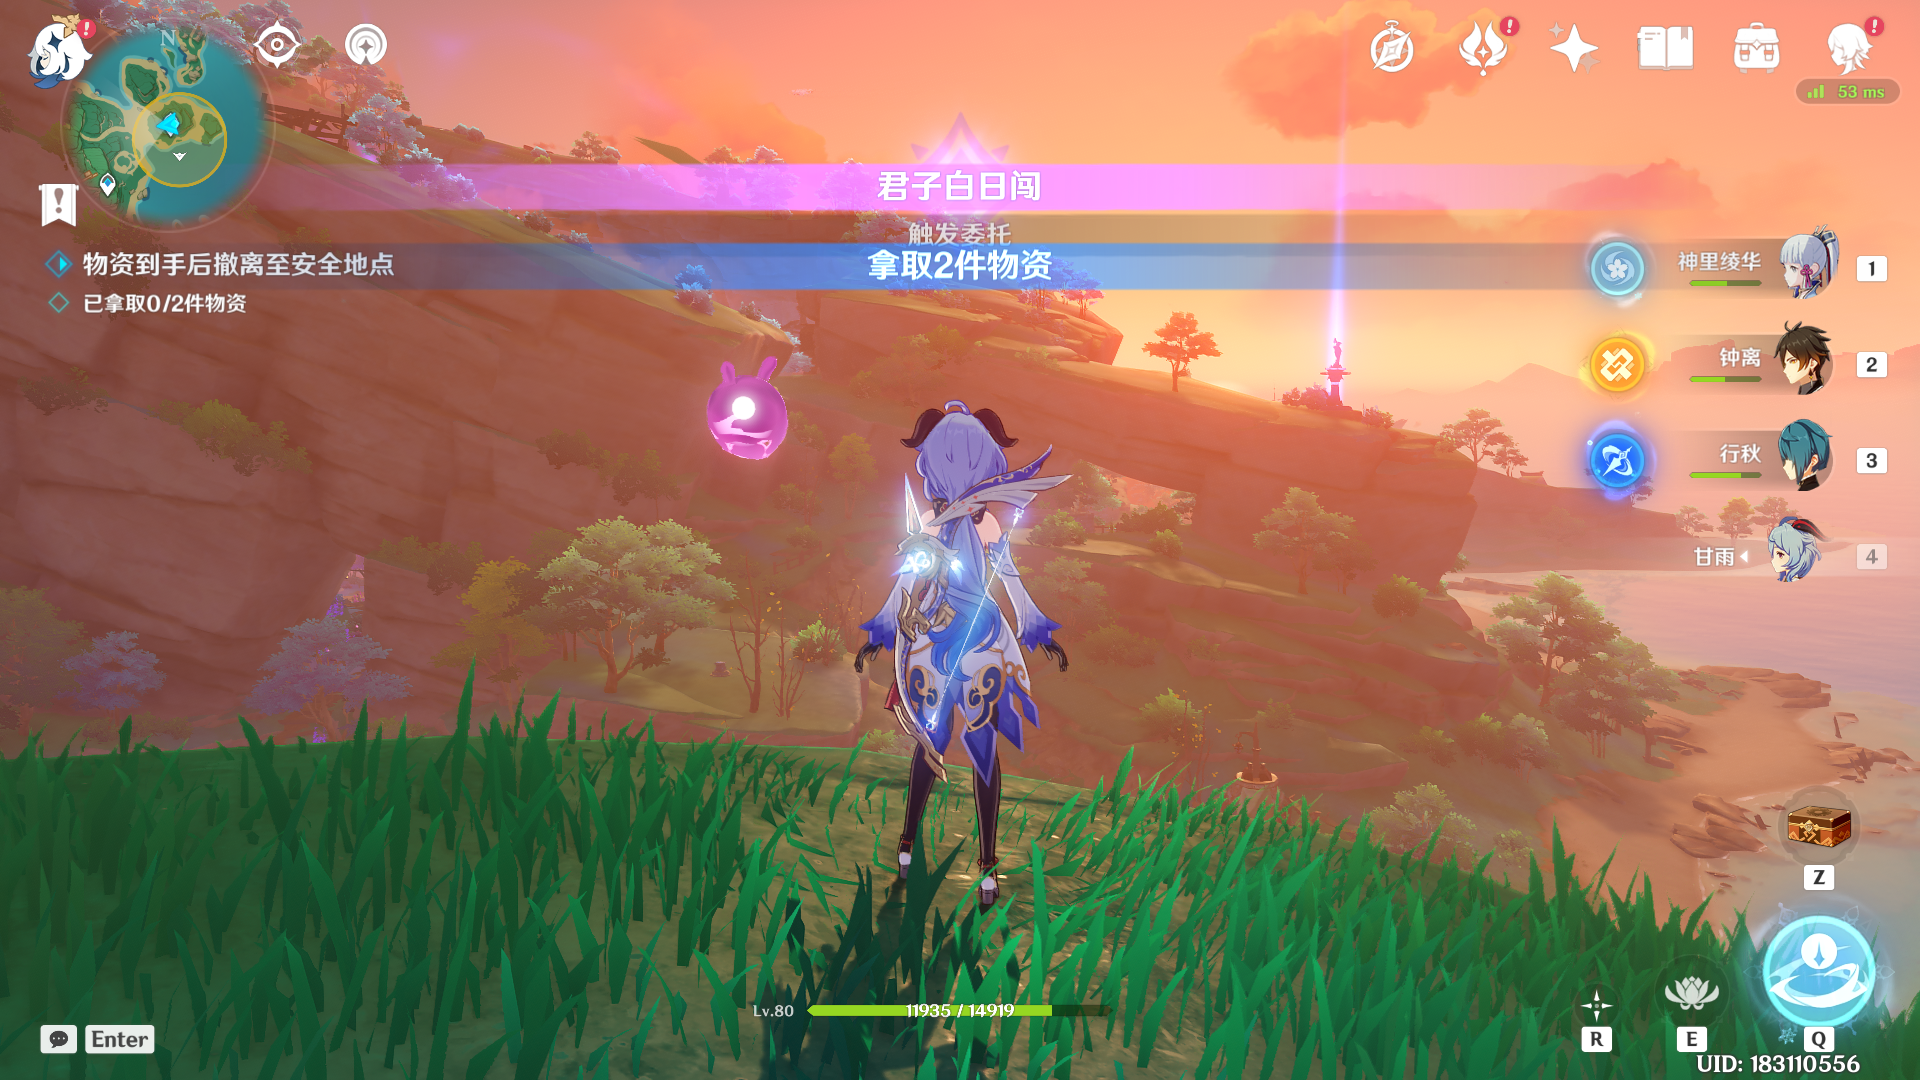character: (816, 367, 1139, 949)
